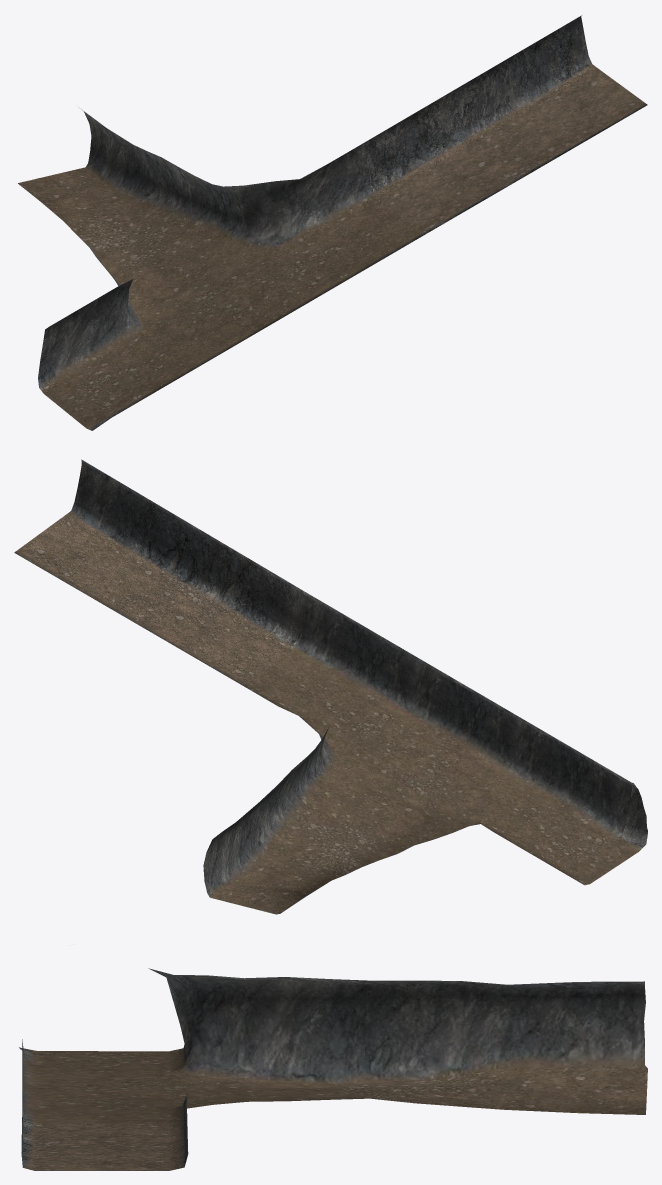
Rendered from TunnelJunction.glb.
3 views of the same model, one above another, from view 1: azimuth 30°, elevation 25°; view 2: azimuth 150°, elevation 25°; view 3: azimuth 270°, elevation 25° (orthographic). The views are drawn at different scales.
Parts seen in each view (by area): view 1: SlopeB; view 2: SlopeB; view 3: SlopeB.
Part boxes in pixels (x1,y1,x2,y2): SlopeB: (18, 15, 647, 430); SlopeB: (14, 459, 647, 914); SlopeB: (19, 968, 647, 1170).
Size of the model in its own units: 17.14 by 7.53 by 11.57.
3 materials, 3 textured.
